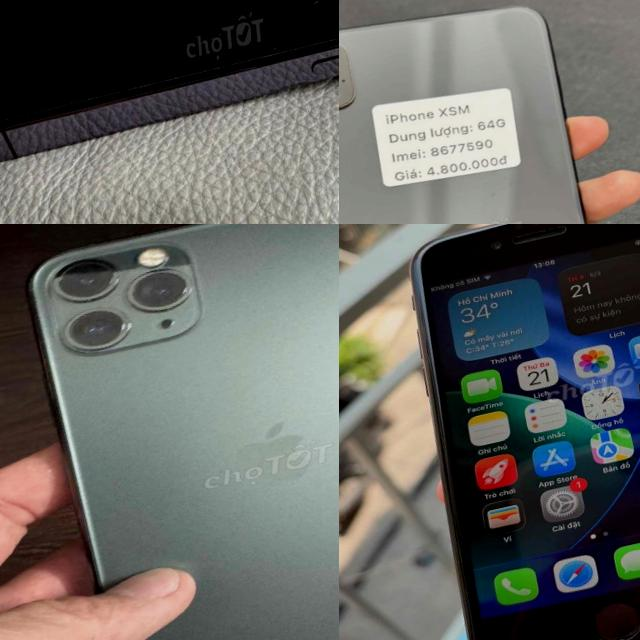gen_11: (0, 224, 339, 640)
gen_14: (0, 0, 339, 188)
gen_7_8: (384, 224, 640, 640)
gen_x_xs: (339, 6, 586, 224)
